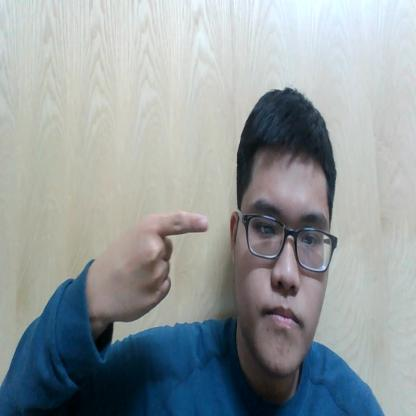left: (104, 204, 209, 320)
